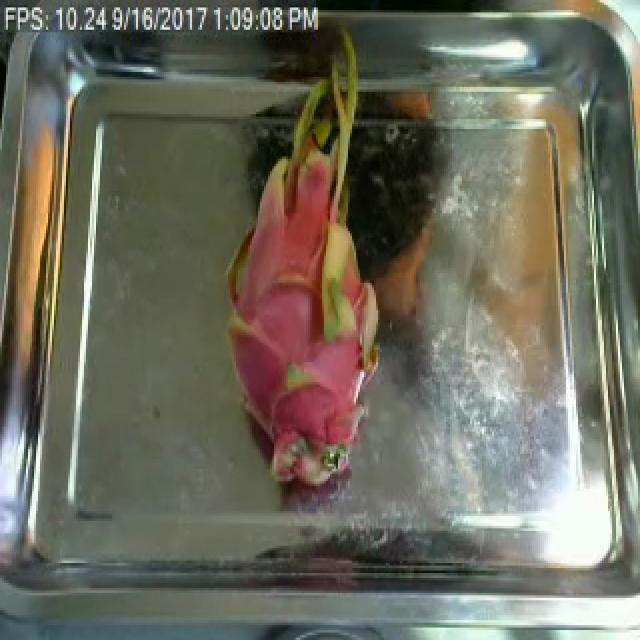fruit: (212, 45, 394, 476)
